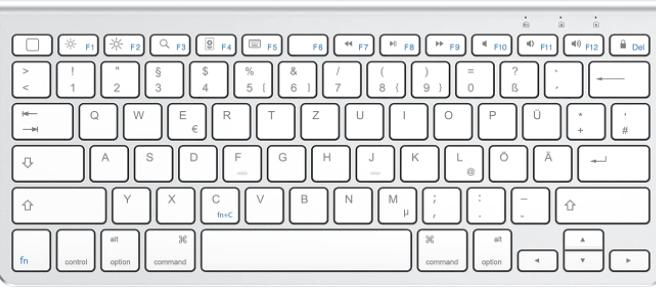0: (453, 58, 493, 97)
1: (54, 59, 94, 96)
2: (98, 59, 139, 96)
3: (142, 59, 182, 96)
4: (187, 59, 227, 96)
5: (231, 58, 271, 97)
6: (276, 58, 316, 96)
7: (320, 59, 360, 97)
8: (364, 59, 404, 97)
9: (408, 59, 449, 97)
a: (87, 142, 127, 180)
accent: (542, 58, 581, 96)
ae: (531, 142, 571, 180)
alt-left: (98, 226, 140, 271)
altgr-right: (471, 226, 512, 271)
b: (286, 184, 327, 222)
c: (197, 184, 239, 222)
comma: (419, 184, 460, 222)
d: (175, 142, 216, 180)
del: (586, 58, 650, 96)
e: (165, 100, 205, 139)
enter: (574, 142, 649, 180)
f: (220, 142, 260, 180)
g: (264, 142, 304, 180)
h: (309, 142, 349, 180)
hash: (609, 100, 649, 138)
i: (387, 100, 427, 138)
j: (354, 142, 393, 180)
k: (398, 142, 437, 180)
keyboard: (1, 10, 656, 285)
l: (442, 142, 482, 181)
less: (10, 59, 49, 96)
m: (375, 184, 415, 222)
minus: (507, 184, 548, 222)
n: (331, 184, 371, 222)
o: (431, 100, 471, 138)
oe: (486, 142, 526, 180)
p: (475, 100, 515, 138)
plus: (564, 100, 604, 138)
point: (464, 184, 504, 222)
q: (76, 100, 116, 138)
r: (210, 100, 250, 139)
s: (131, 142, 172, 180)
shift-left: (10, 183, 107, 223)
shift-lock: (9, 142, 83, 180)
shift-right: (553, 184, 650, 223)
space: (198, 226, 412, 271)
ss: (497, 58, 537, 96)
strg-left: (53, 227, 95, 271)
t: (254, 100, 293, 138)
tab: (8, 99, 72, 139)
u: (342, 100, 382, 139)
ue: (520, 100, 560, 139)
v: (242, 184, 283, 222)
w: (120, 100, 161, 138)
x: (154, 184, 194, 222)
y: (109, 184, 149, 222)
z: (298, 100, 338, 139)
